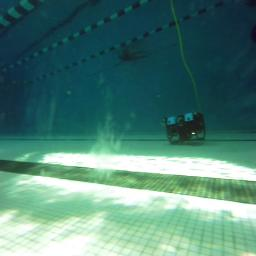front: (162, 111, 207, 144)
